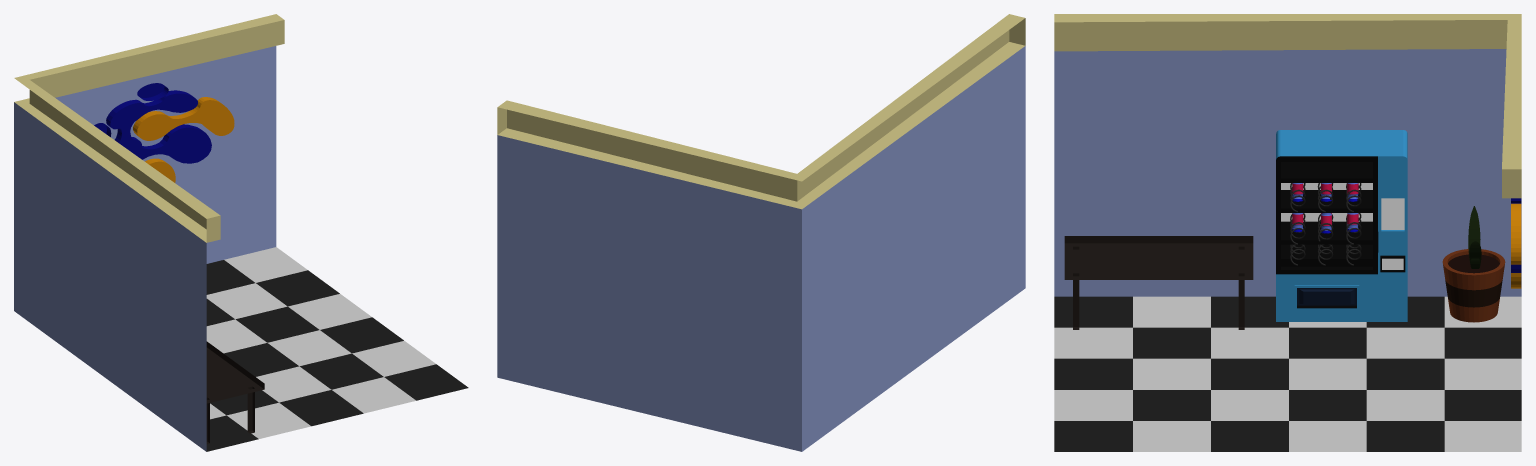
The model's file is AnimatedObject0005.obj.
3 views of the same model, side by side, from view 1: azimuth 30°, elevation 25°; view 2: azimuth 150°, elevation 25°; view 3: azimuth 270°, elevation 25° (orthographic). The views are drawn at different scales.
Visible parts, largest first — view 1: ruangan_Cube.003, meja_Cube.004, logo_Circle.005, logo.001_Circle.001, logo.005_Circle.002; view 2: ruangan_Cube.003; view 3: ruangan_Cube.003, vending_machine_Cube.001, meja_Cube.004, pot_bunga_Cylinder, per_second\_Spiral.010, Plane.007, logo_Circle.005.
Boxes of the visible parts, bbox=[...] form: ruangan_Cube.003: bbox=[14, 14, 468, 451]; meja_Cube.004: bbox=[206, 341, 264, 444]; logo_Circle.005: bbox=[133, 97, 234, 140]; logo.001_Circle.001: bbox=[115, 124, 211, 163]; logo.005_Circle.002: bbox=[106, 90, 197, 132]; ruangan_Cube.003: bbox=[497, 14, 1025, 451]; ruangan_Cube.003: bbox=[1054, 14, 1521, 451]; vending_machine_Cube.001: bbox=[1276, 130, 1407, 321]; meja_Cube.004: bbox=[1064, 236, 1253, 329]; pot_bunga_Cylinder: bbox=[1442, 249, 1505, 322]; per_second\_Spiral.010: bbox=[1290, 183, 1361, 265]; Plane.007: bbox=[1468, 206, 1481, 268]; logo_Circle.005: bbox=[1511, 203, 1521, 264].
Size of the model in its own units: 11.73 by 9.95 by 14.9.
